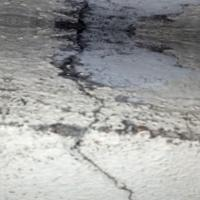crack: (49, 135, 165, 196)
